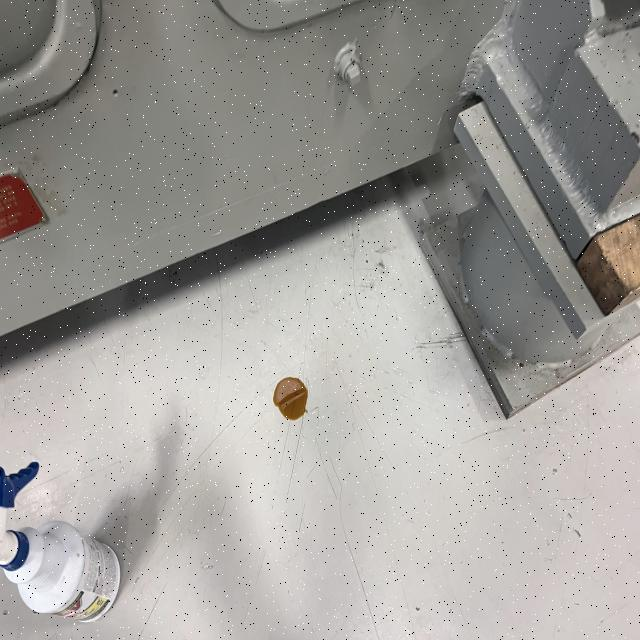Oil Leak: (271, 375, 310, 422)
